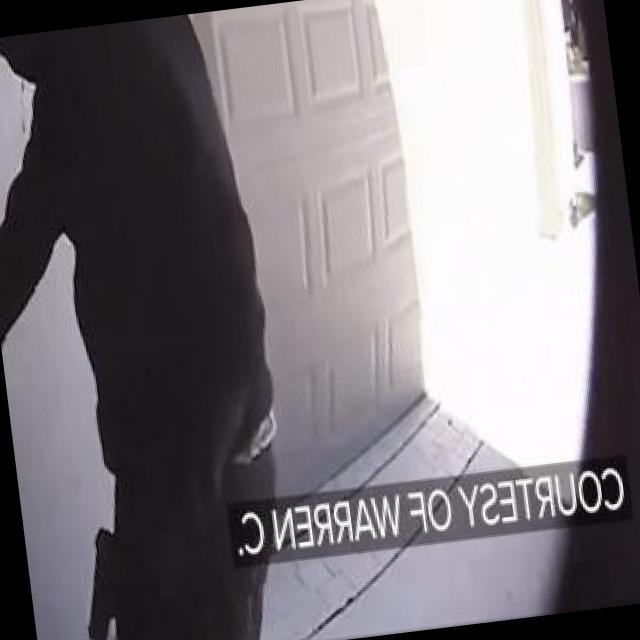Guns: (62, 513, 147, 640)
